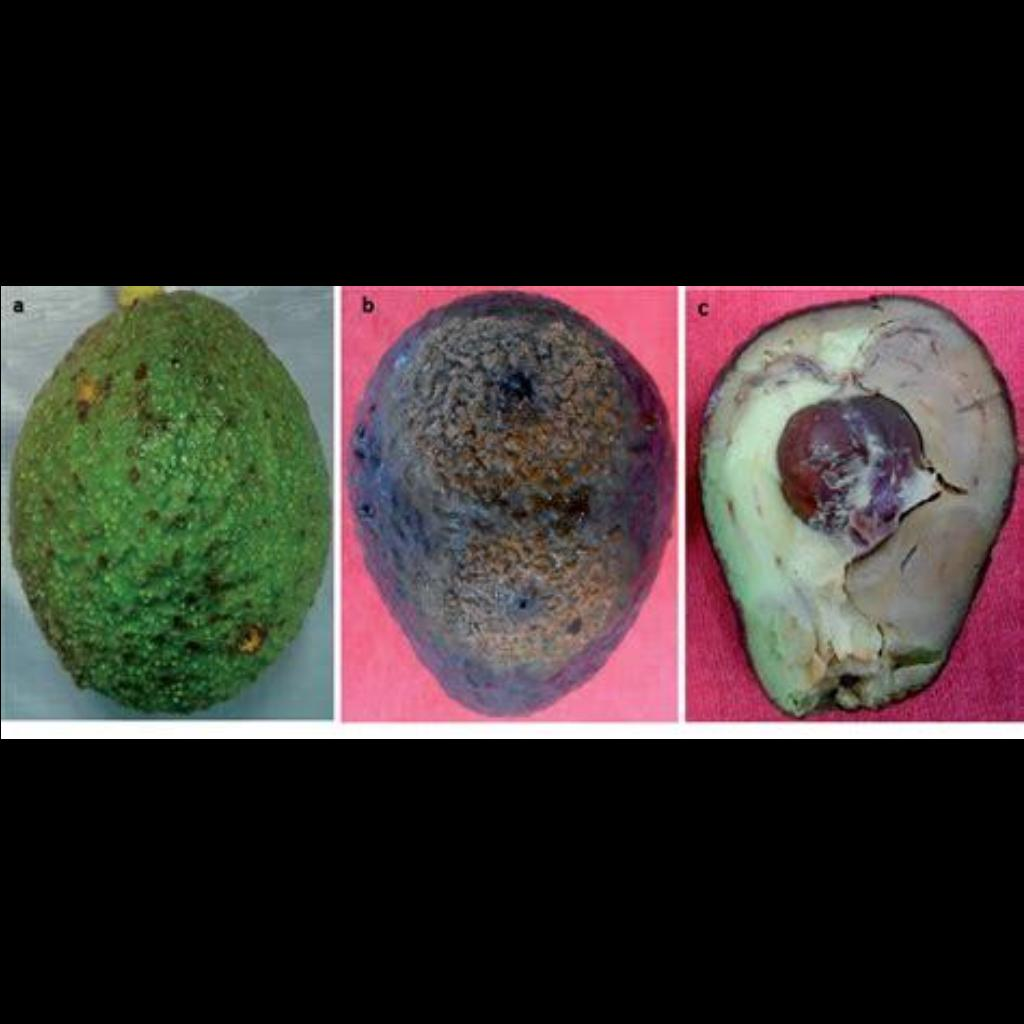antracnosis_fruto: (351, 315, 671, 702), (11, 317, 303, 693)
